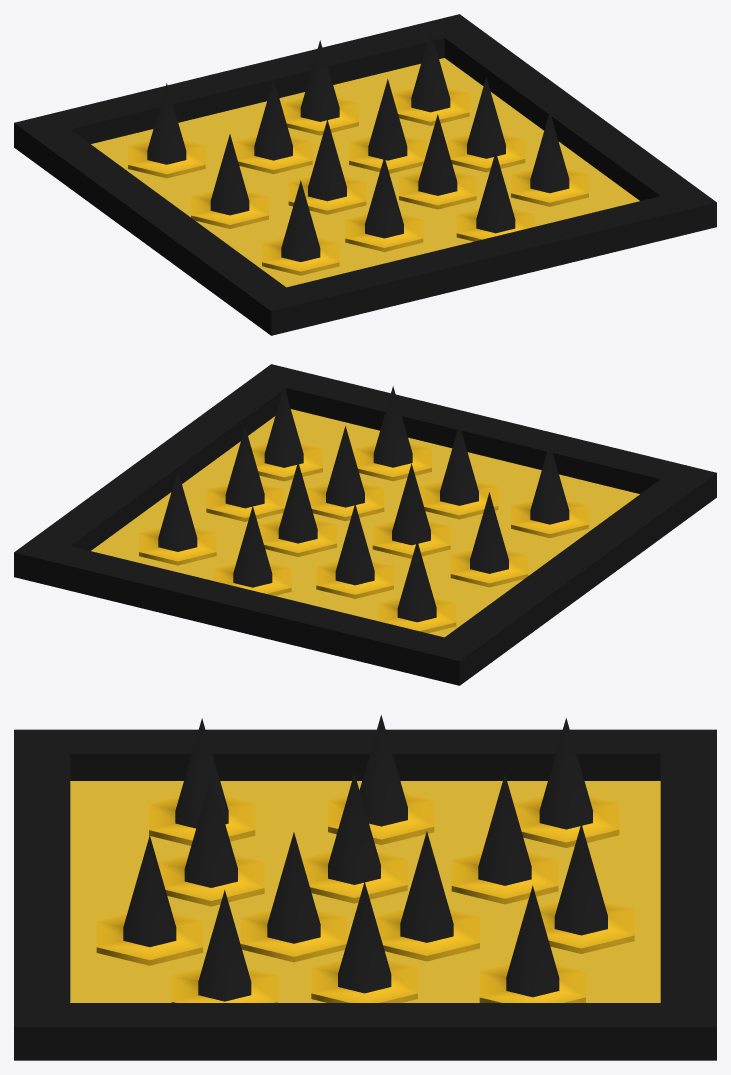
The model's file is trampaActivaNvl2.fbx.
3 renders of one model, top to bottom at view 1: azimuth 30°, elevation 25°; view 2: azimuth 150°, elevation 25°; view 3: azimuth 270°, elevation 25°, orthographic. The views are drawn at different scales.
Parts seen in each view (by area): view 1: Box007, Cylinder036, Cylinder032, Cylinder044, Cylinder040, Cylinder037, Cylinder035, Cylinder033, Cylinder039, Cylinder042, Cylinder043, Cylinder041 (+2 smaller); view 2: Box007, Cylinder035, Cylinder033, Cylinder037, Cylinder042, Cylinder043, Cylinder039, Cylinder034, Cylinder038, Cylinder040, Cylinder036, Cylinder032 (+2 smaller); view 3: Box007, Cylinder040, Cylinder038, Cylinder033, Cylinder036, Cylinder039, Cylinder032, Cylinder034, Cylinder043, Cylinder041, Cylinder042, Cylinder035 (+2 smaller).
Part boxes in pixels (left/top/right/bottom): Box007: left=14, top=14, right=716, bottom=335; Cylinder036: left=345, top=157, right=423, bottom=251; Cylinder032: left=128, top=83, right=205, bottom=178; Cylinder044: left=511, top=111, right=588, bottom=206; Cylinder040: left=399, top=114, right=476, bottom=209; Cylinder037: left=262, top=180, right=339, bottom=275; Cylinder035: left=191, top=134, right=268, bottom=228; Cylinder033: left=234, top=79, right=312, bottom=174; Cylinder039: left=349, top=79, right=426, bottom=173; Cylinder042: left=392, top=31, right=469, bottom=125; Cylinder043: left=447, top=77, right=525, bottom=172; Cylinder041: left=281, top=40, right=358, bottom=135; Box007: left=14, top=364, right=716, bottom=685; Cylinder035: left=450, top=492, right=528, bottom=587; Cylinder033: left=316, top=503, right=393, bottom=598; Cylinder037: left=511, top=443, right=588, bottom=538; Cylinder042: left=139, top=470, right=216, bottom=565; Cylinder043: left=206, top=426, right=283, bottom=521; Cylinder039: left=259, top=461, right=336, bottom=556; Cylinder034: left=372, top=464, right=450, bottom=558; Cylinder038: left=354, top=386, right=431, bottom=481; Cylinder040: left=306, top=426, right=384, bottom=521; Cylinder036: left=420, top=424, right=498, bottom=519; Cylinder032: left=378, top=541, right=456, bottom=633; Box007: left=14, top=729, right=716, bottom=1060; Cylinder040: left=240, top=832, right=347, bottom=962; Cylinder038: left=96, top=835, right=202, bottom=965; Cylinder033: left=451, top=774, right=558, bottom=904; Cylinder036: left=158, top=776, right=264, bottom=906; Cylinder039: left=375, top=831, right=479, bottom=961; Cylinder032: left=513, top=718, right=619, bottom=847; Cylinder034: left=302, top=773, right=407, bottom=903; Cylinder043: left=311, top=882, right=417, bottom=1002; Cylinder041: left=539, top=824, right=634, bottom=953; Cylinder042: left=479, top=885, right=585, bottom=1002; Cylinder035: left=328, top=715, right=434, bottom=844.
Size of the model in its own units: 1 by 0.1746 by 1.
